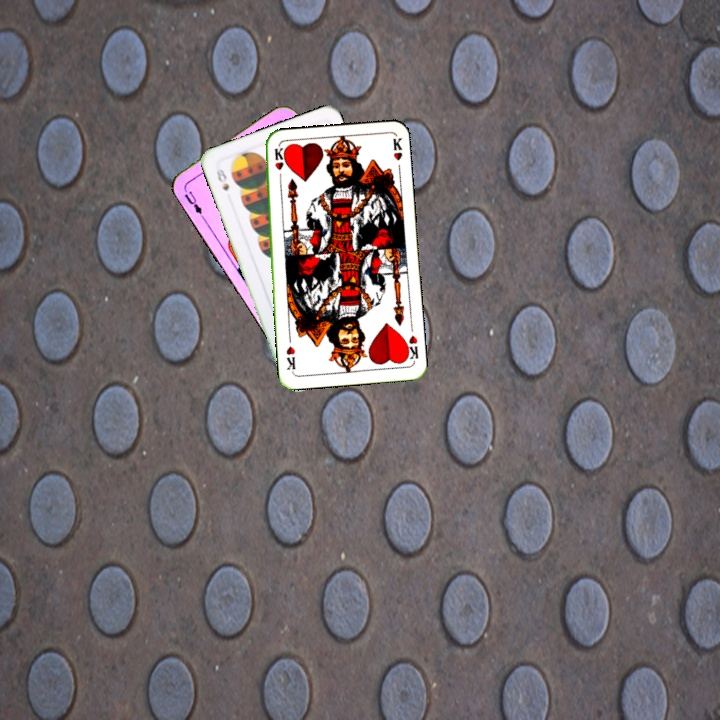EU: (179, 179, 206, 219)
HK: (400, 331, 421, 364), (270, 144, 285, 185)
S8: (212, 163, 232, 193)
